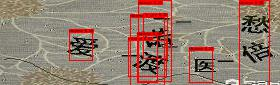chinese: (134, 48, 169, 76), (242, 39, 276, 66), (67, 35, 99, 60), (139, 28, 179, 48), (243, 14, 272, 37), (193, 58, 217, 74)
